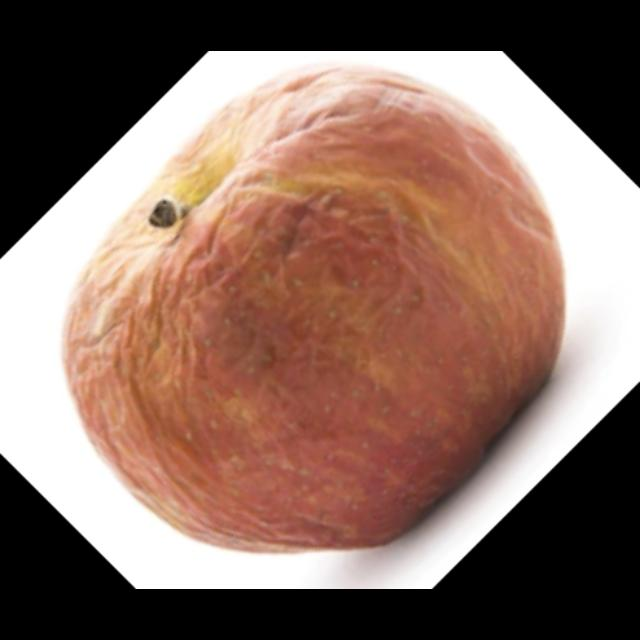Apel Tidak Segar: (56, 57, 563, 562)
